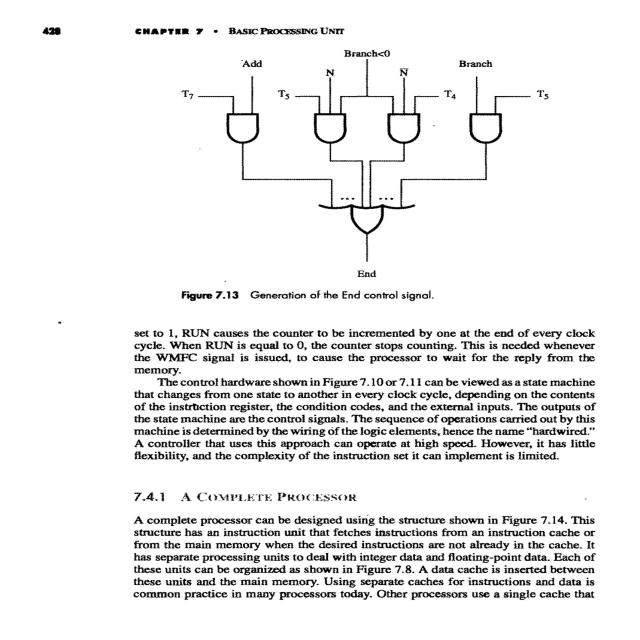diagram: (84, 44, 594, 317)
